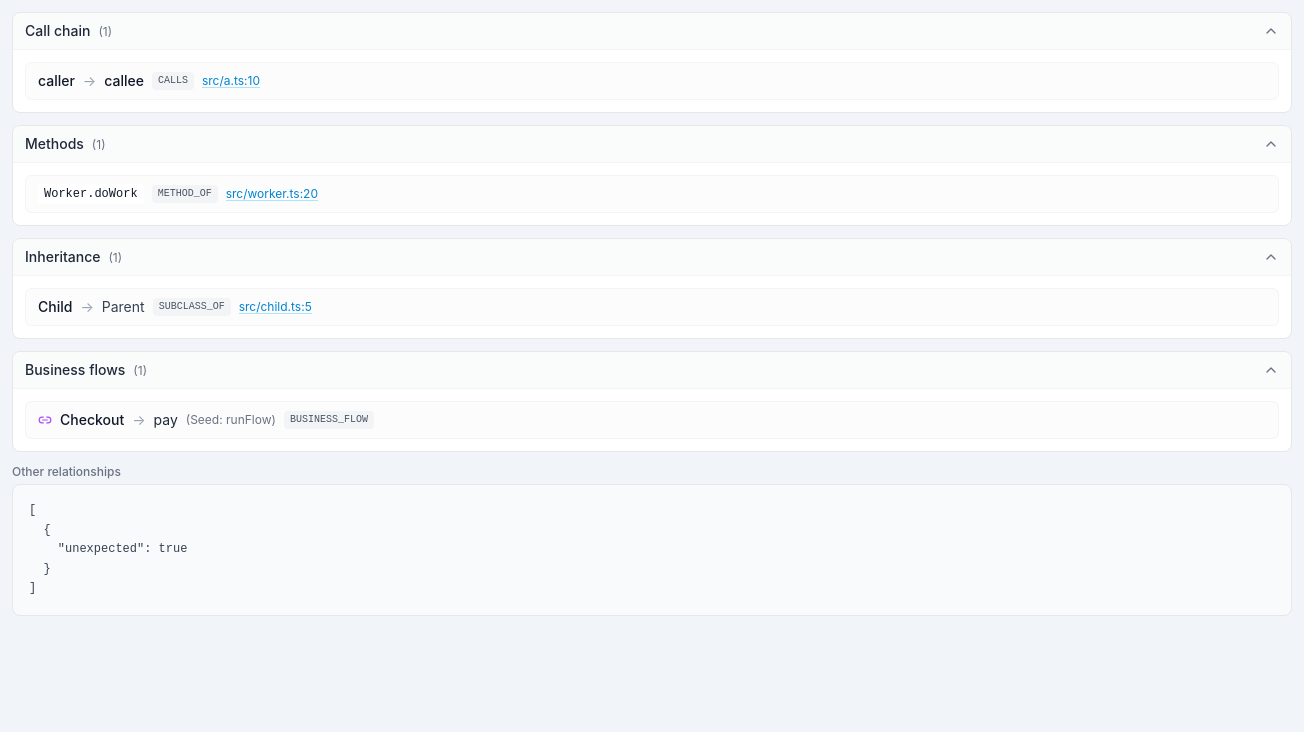
Test: GraphContextCards › toggles collapsible sections
This screenshot has width=1304, height=732.
Step 1. Click the button "Call chain(1)" → [58, 30], box x1=13 y1=13 x2=1291 y2=49
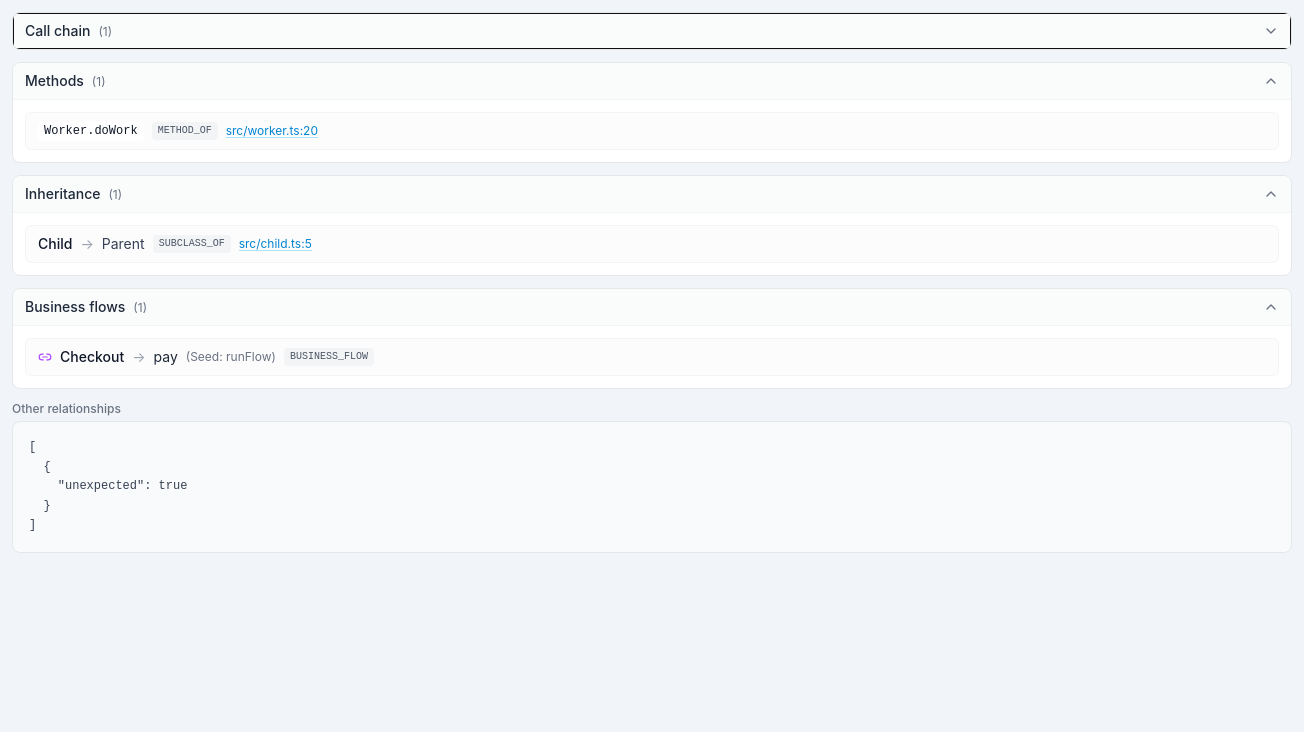
Now the text "caller" is gone
Step 2. Click the button "Call chain(1)" → [58, 30], box x1=13 y1=13 x2=1291 y2=49
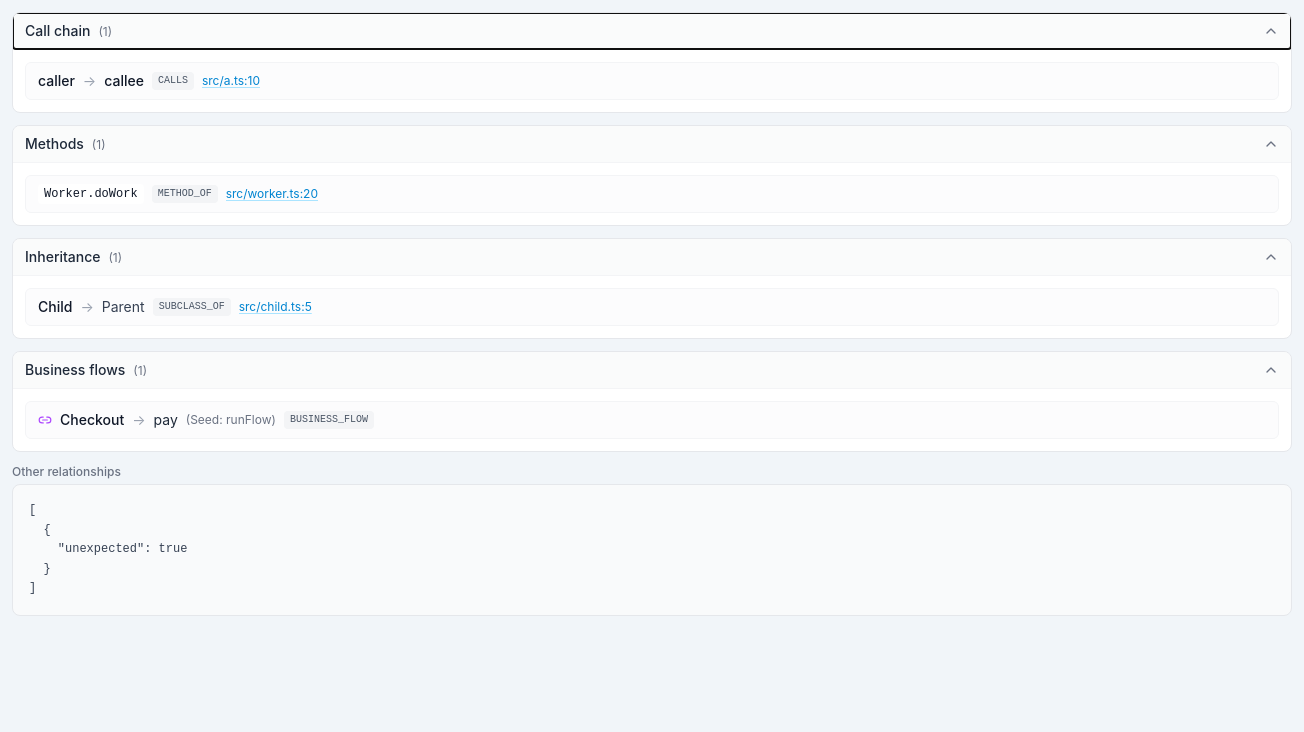
Now the text "caller" is shown, box x1=38 y1=71 x2=75 y2=91
